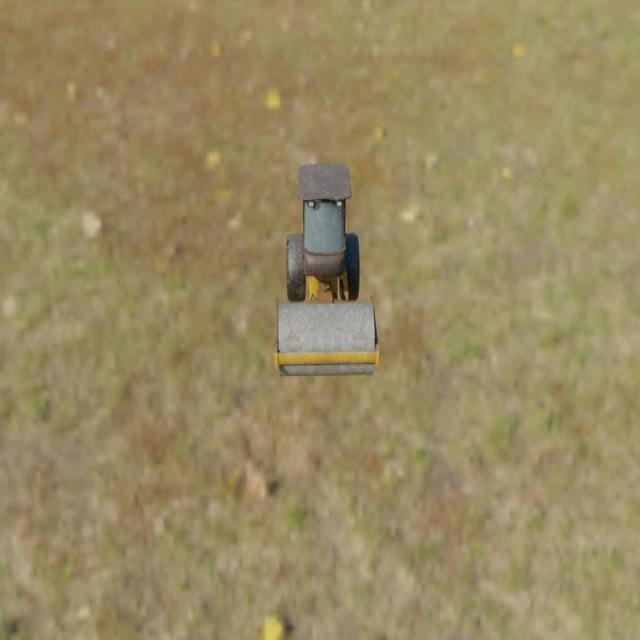Roller: (273, 163, 379, 376)
